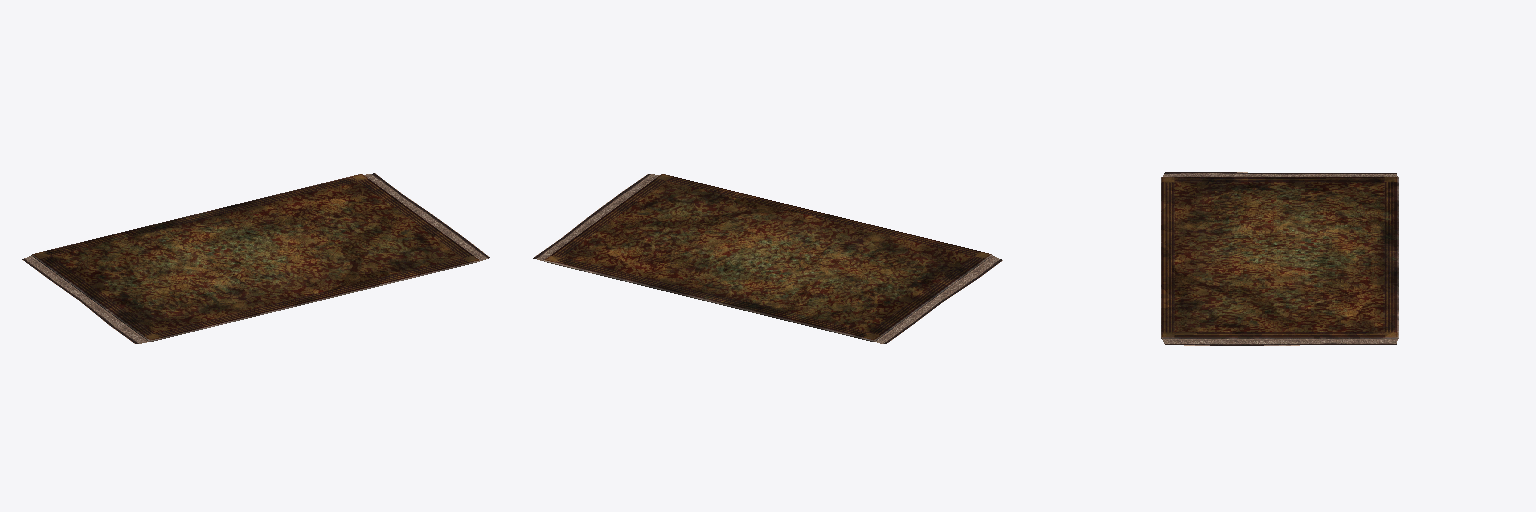
3 renders of one model, left to right at view 1: azimuth 30°, elevation 25°; view 2: azimuth 150°, elevation 25°; view 3: azimuth 270°, elevation 25°, orthographic.
Visible parts, largest first — view 1: Carpet_C; view 2: Carpet_C; view 3: Carpet_C.
Part boxes in pixels (x1,y1,x2,y2): Carpet_C: (22, 173, 489, 343); Carpet_C: (533, 174, 1002, 343); Carpet_C: (1161, 172, 1398, 345).
Bounding box in the file's own units: 331 × 5.1 × 191.
1 materials, 1 textured.